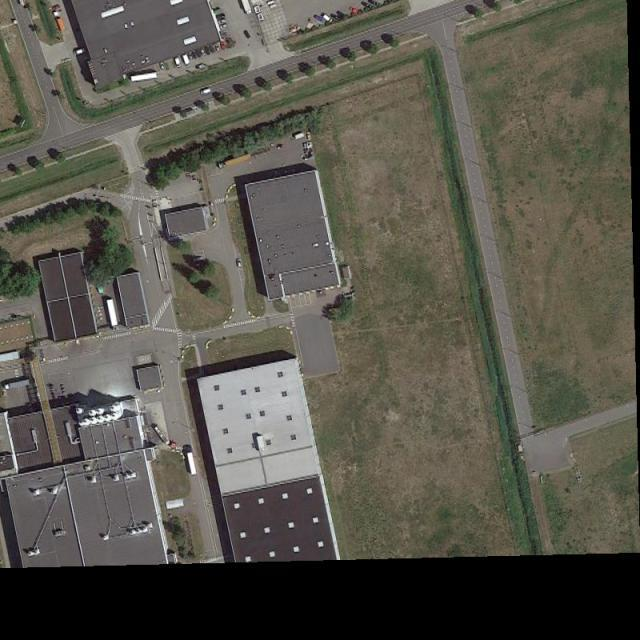vehicle: (216, 151, 254, 170), (106, 297, 121, 331), (186, 448, 198, 476), (130, 73, 159, 82), (240, 1, 254, 17), (182, 53, 190, 68), (322, 14, 334, 23), (174, 57, 182, 69), (74, 48, 86, 56), (361, 2, 372, 10), (200, 89, 212, 96), (194, 256, 204, 264), (313, 14, 323, 22), (190, 50, 198, 60), (207, 44, 215, 54), (51, 3, 61, 11), (187, 51, 194, 62), (196, 47, 203, 58), (330, 14, 341, 20), (215, 14, 226, 20), (350, 6, 358, 14), (203, 46, 210, 55), (243, 30, 250, 39), (368, 1, 380, 6), (158, 62, 165, 70), (337, 11, 346, 17), (214, 44, 220, 53), (201, 47, 206, 57), (218, 19, 226, 25), (238, 259, 242, 270), (220, 42, 225, 50), (219, 25, 227, 29)
